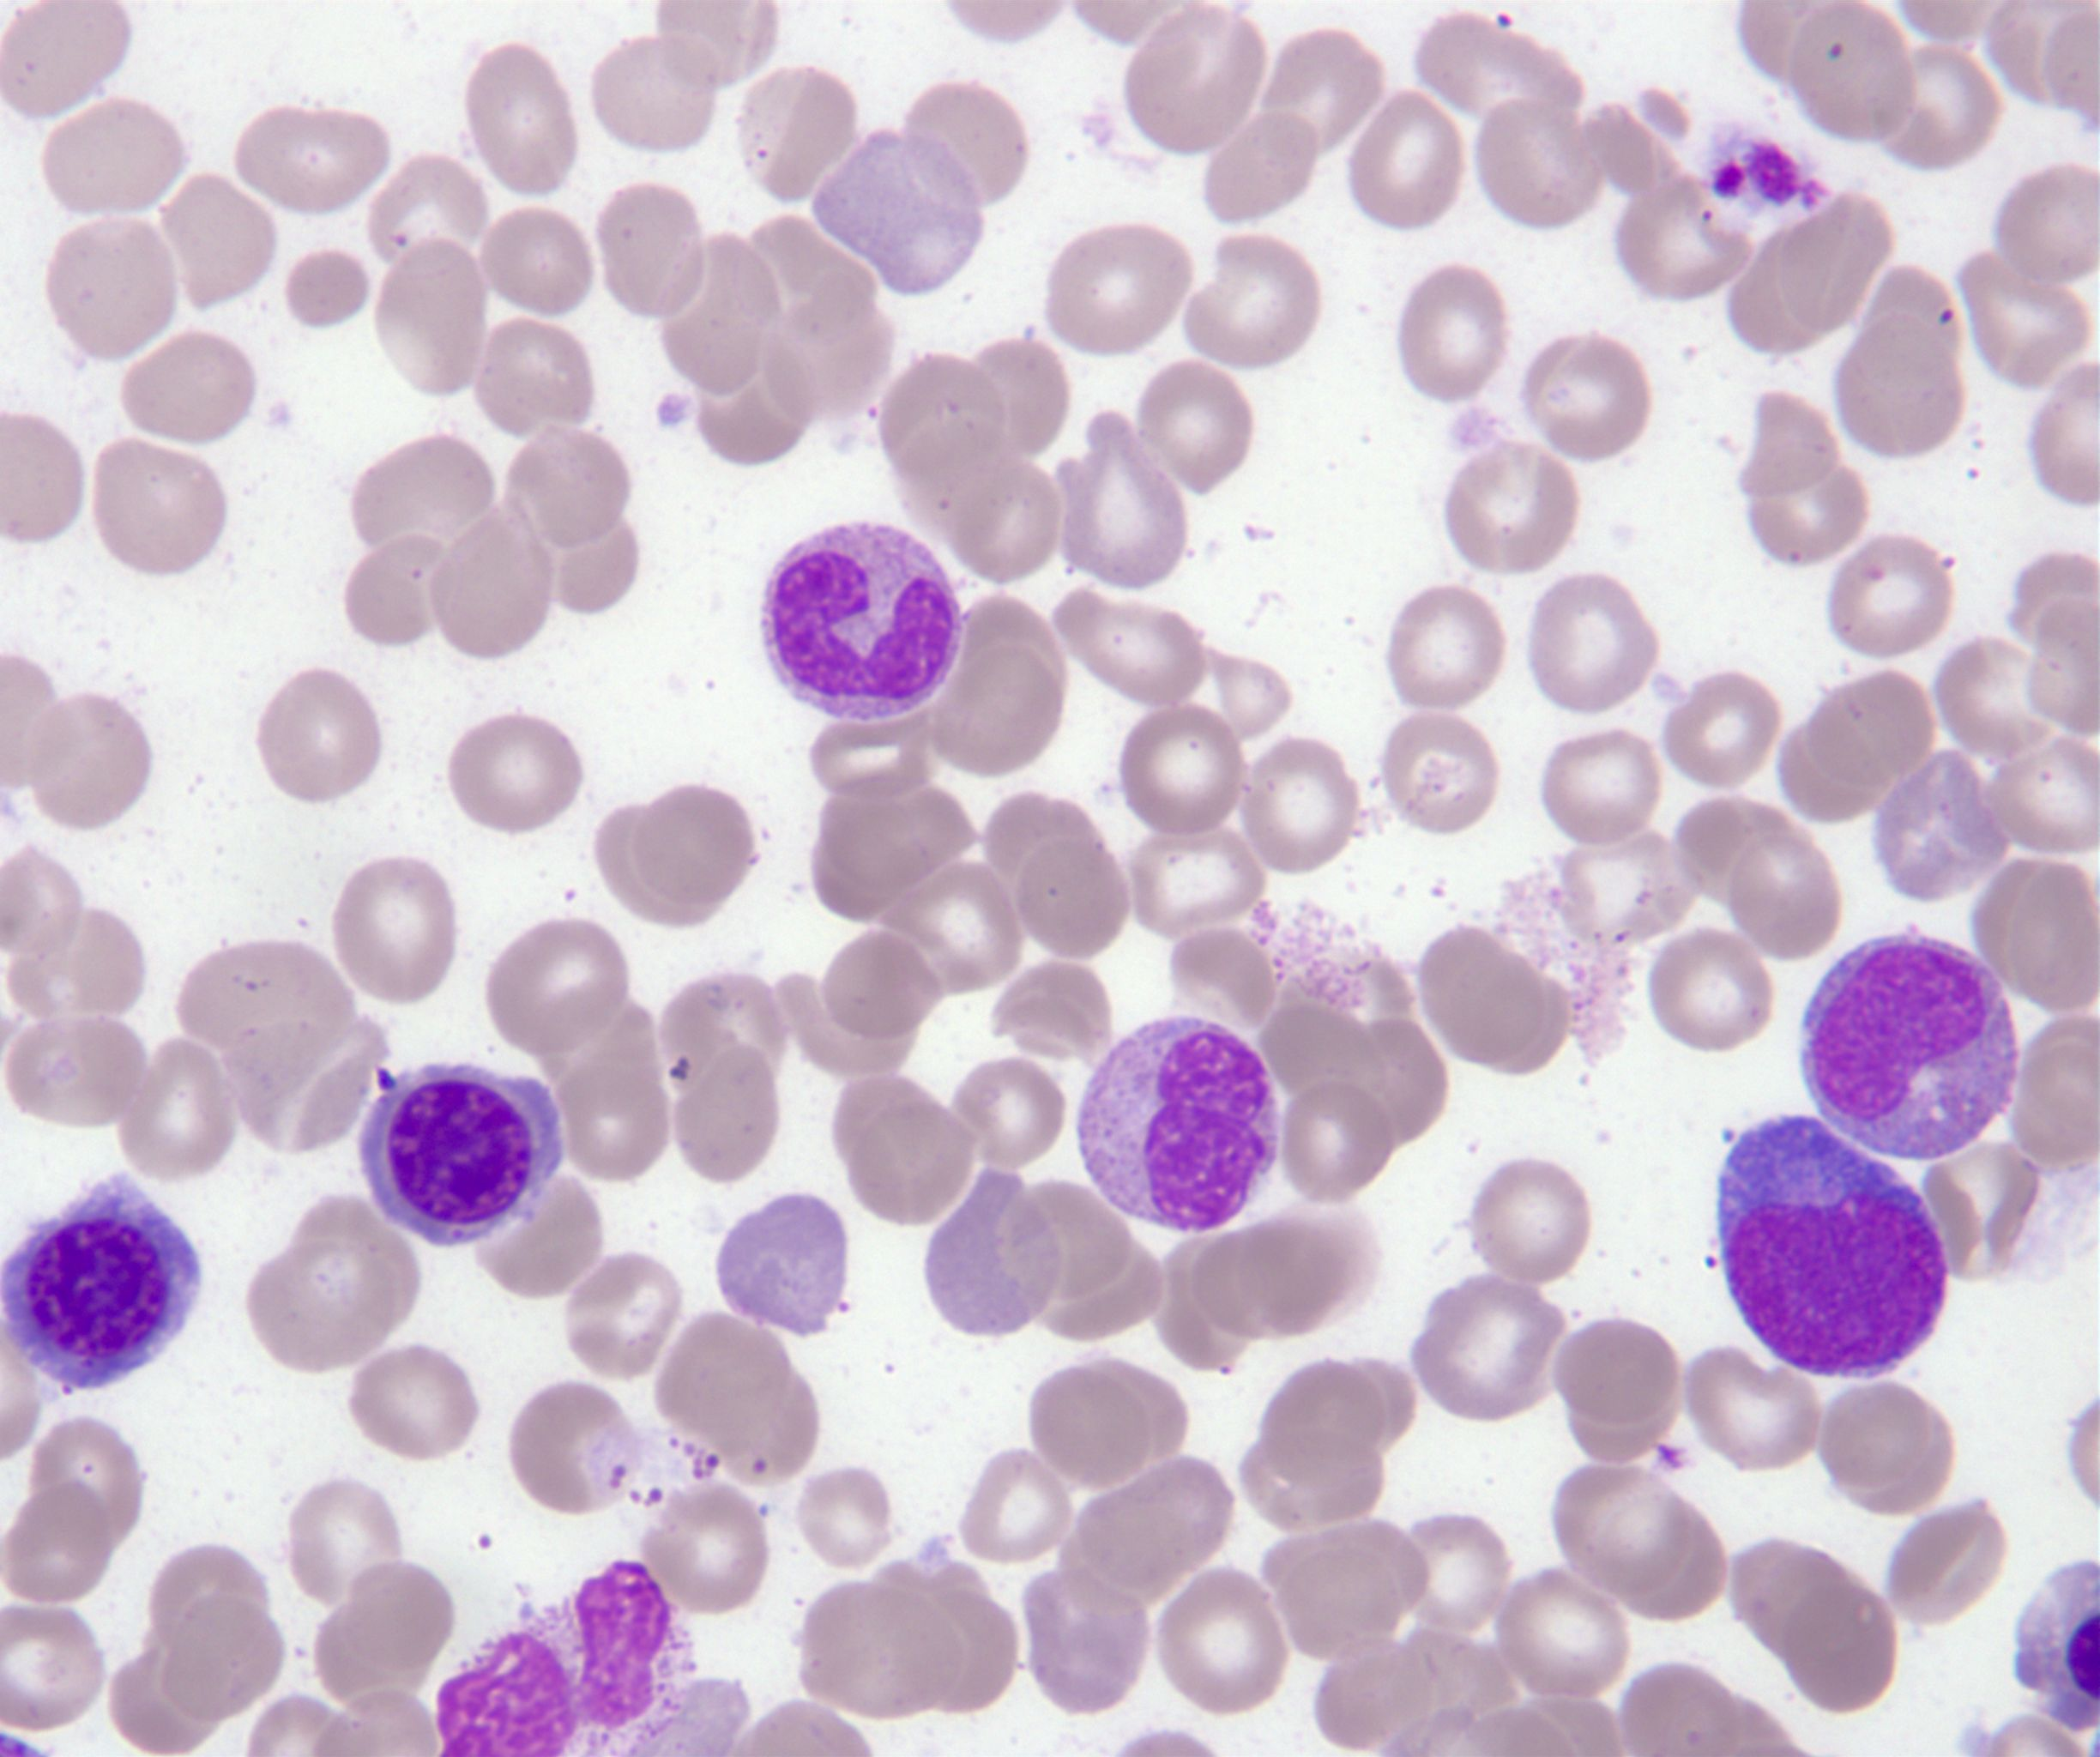2: (1723, 1117, 1945, 1377)
23: (5, 1176, 201, 1391), (359, 1066, 563, 1246)
3: (1803, 935, 2020, 1160)
4: (1078, 1019, 1280, 1230)
5: (764, 525, 959, 722)
x: (436, 1562, 696, 1757)
